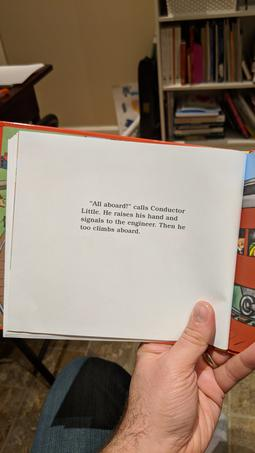text block: (74, 190, 190, 247)
